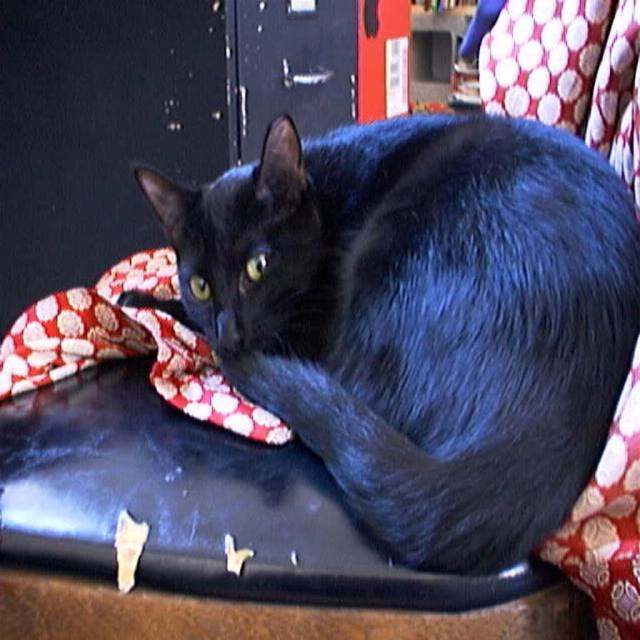Cat: (134, 103, 638, 581)
